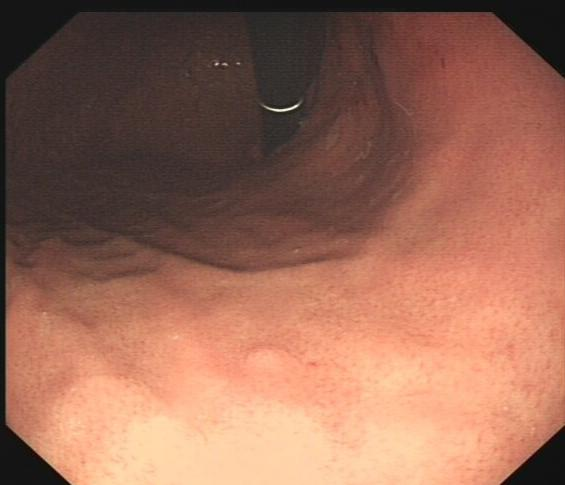Polyp: (216, 331, 311, 382)
